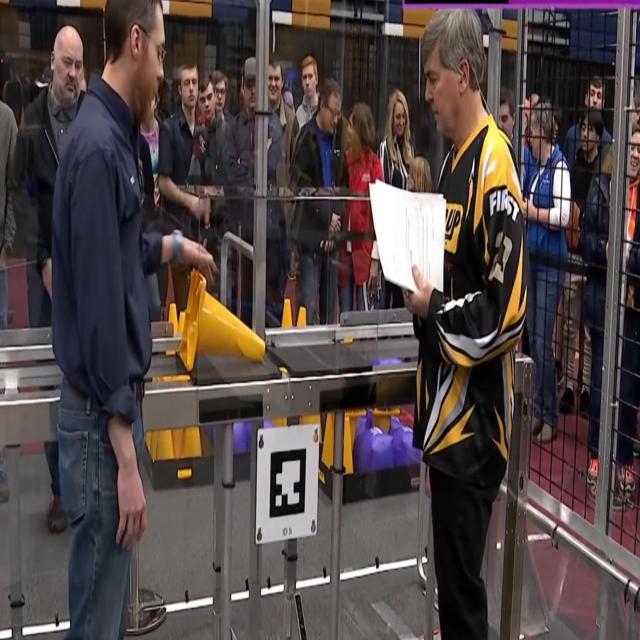frc_cone: (178, 265, 266, 370), (369, 403, 397, 435), (321, 413, 336, 470), (342, 414, 355, 474), (180, 428, 202, 461), (278, 298, 296, 330), (158, 424, 174, 459), (170, 425, 183, 459), (167, 302, 180, 334), (294, 306, 308, 329), (147, 428, 158, 456)
frc_cube: (358, 425, 393, 473), (392, 423, 420, 468), (232, 419, 250, 452)
